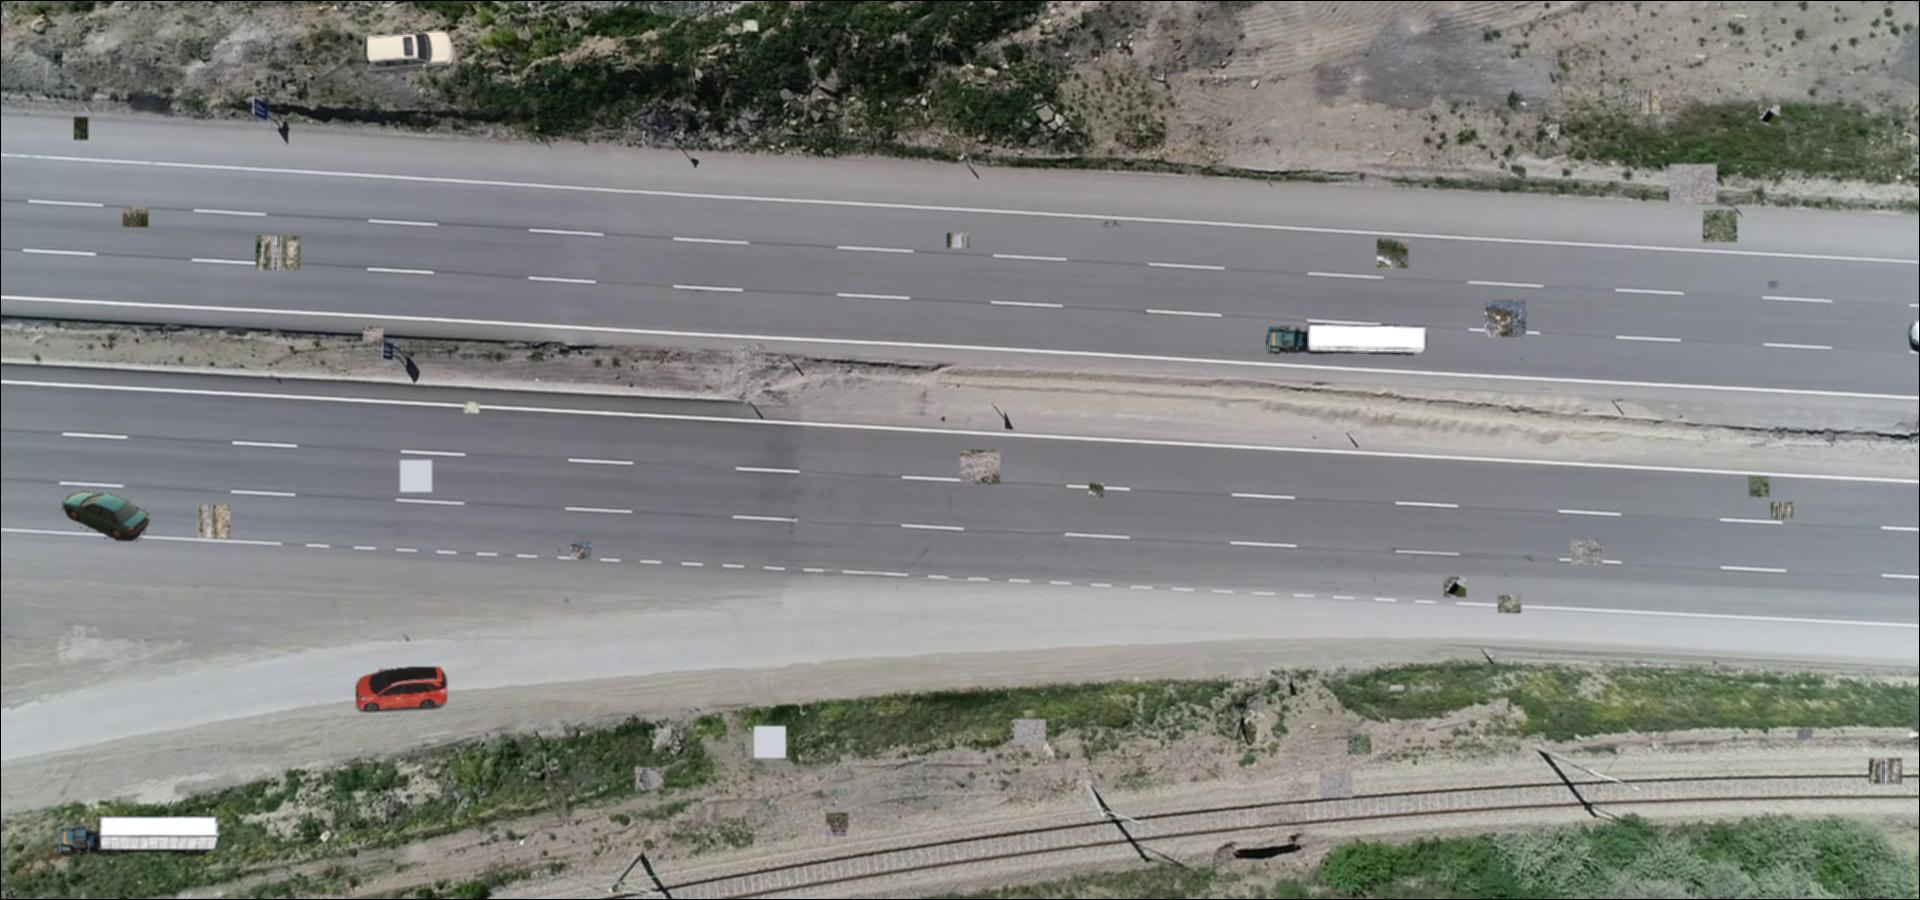arac: (58, 814, 219, 858), (1266, 321, 1430, 361), (59, 486, 149, 542), (362, 28, 456, 75), (356, 667, 448, 711)
